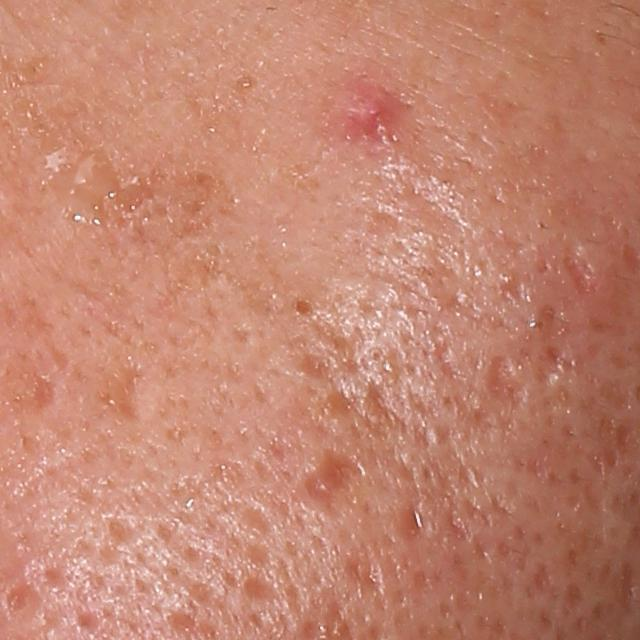atrophic_scar: (179, 166, 243, 241), (299, 446, 362, 518), (98, 356, 148, 424), (106, 167, 165, 221), (483, 351, 532, 411), (561, 237, 600, 296), (307, 312, 359, 352), (341, 555, 385, 600), (530, 341, 570, 388), (394, 502, 437, 544), (359, 373, 392, 425), (324, 374, 358, 420), (433, 336, 461, 384), (594, 376, 627, 413), (294, 351, 336, 380), (241, 576, 280, 606), (239, 506, 272, 541), (28, 372, 56, 413), (527, 564, 554, 605), (566, 583, 587, 610)
papule: (324, 77, 420, 154)
